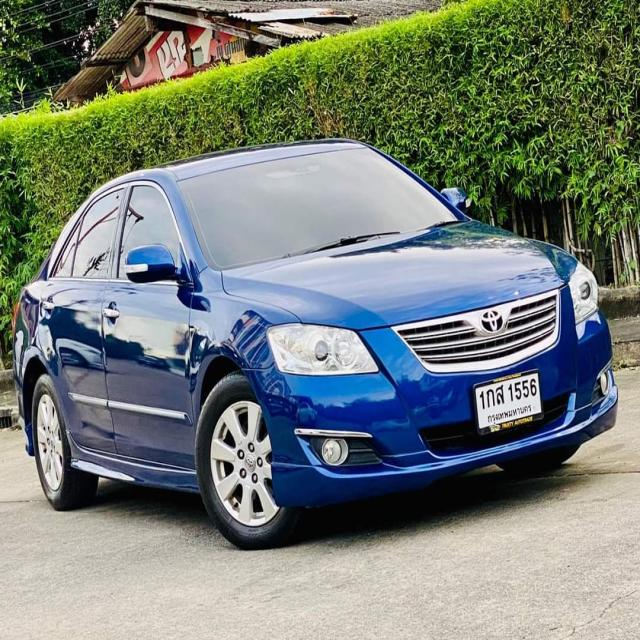license_plate: (464, 366, 548, 439)
